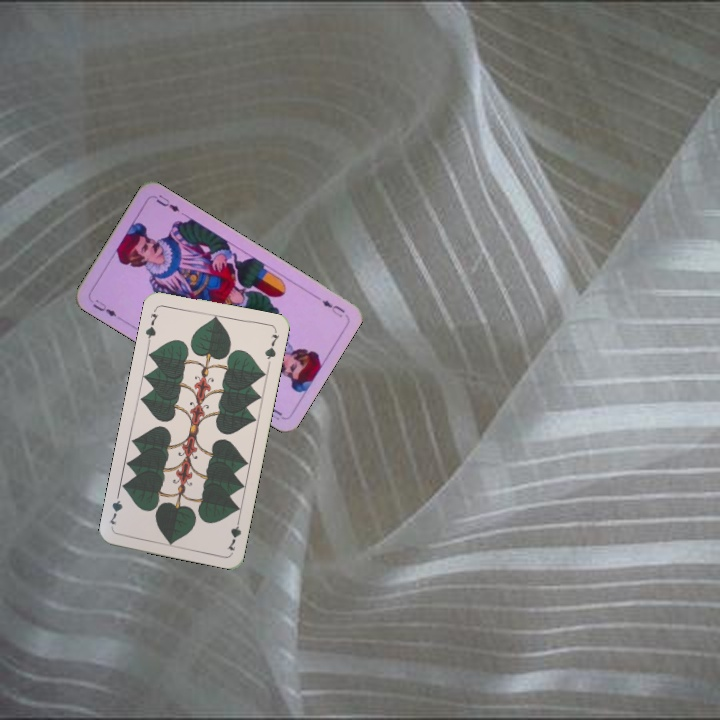EU: (89, 295, 119, 319), (318, 296, 347, 320)
G7: (223, 513, 244, 553), (141, 310, 161, 345)
